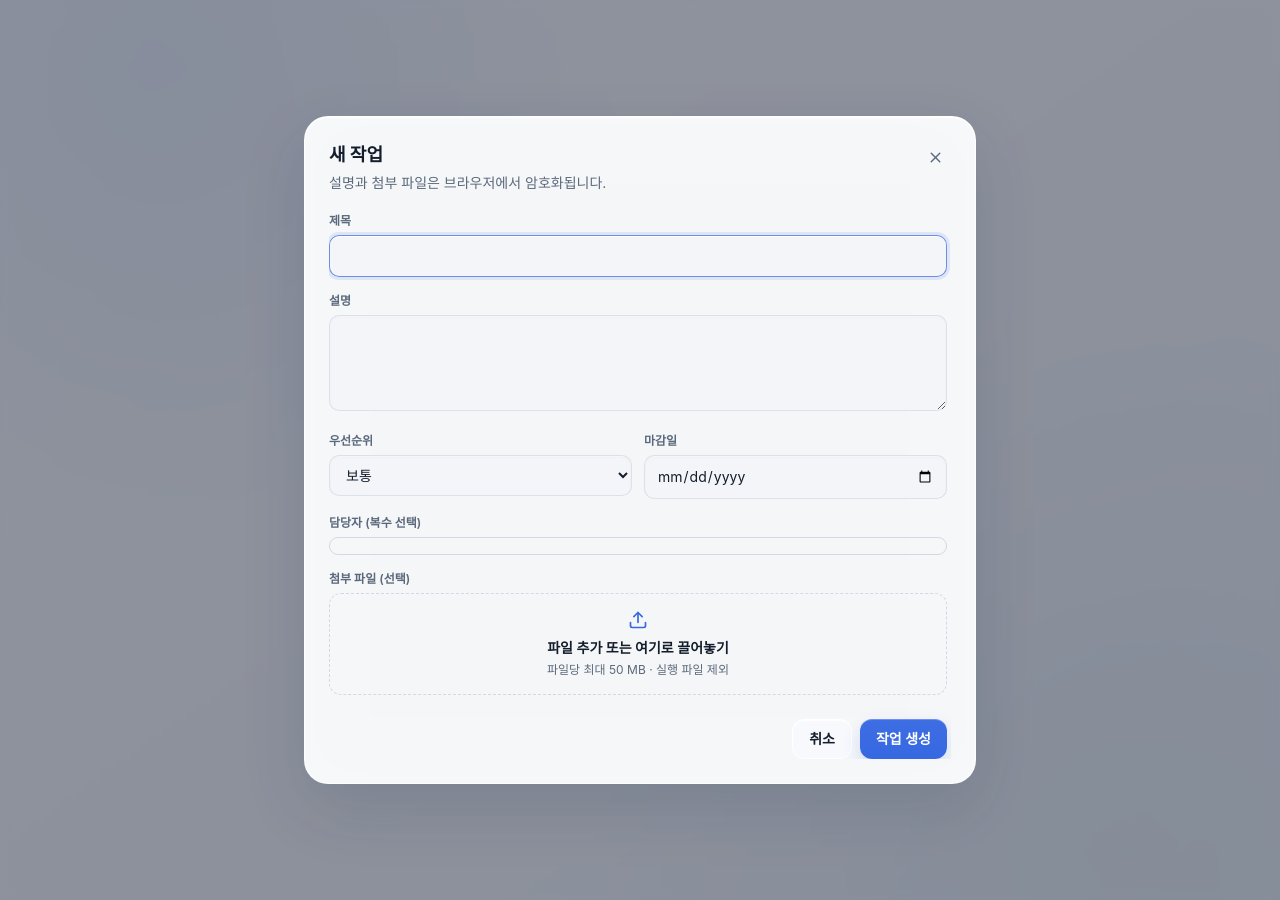
Test: board task creation UX › closes, resets, updates, and shows a success Toast only after creation succeeds
Type "테스트 작업" into the field labelled "제목".
click(638, 256); type("테스트 작업")  # box top-left (329, 235), bottom-right (947, 277)
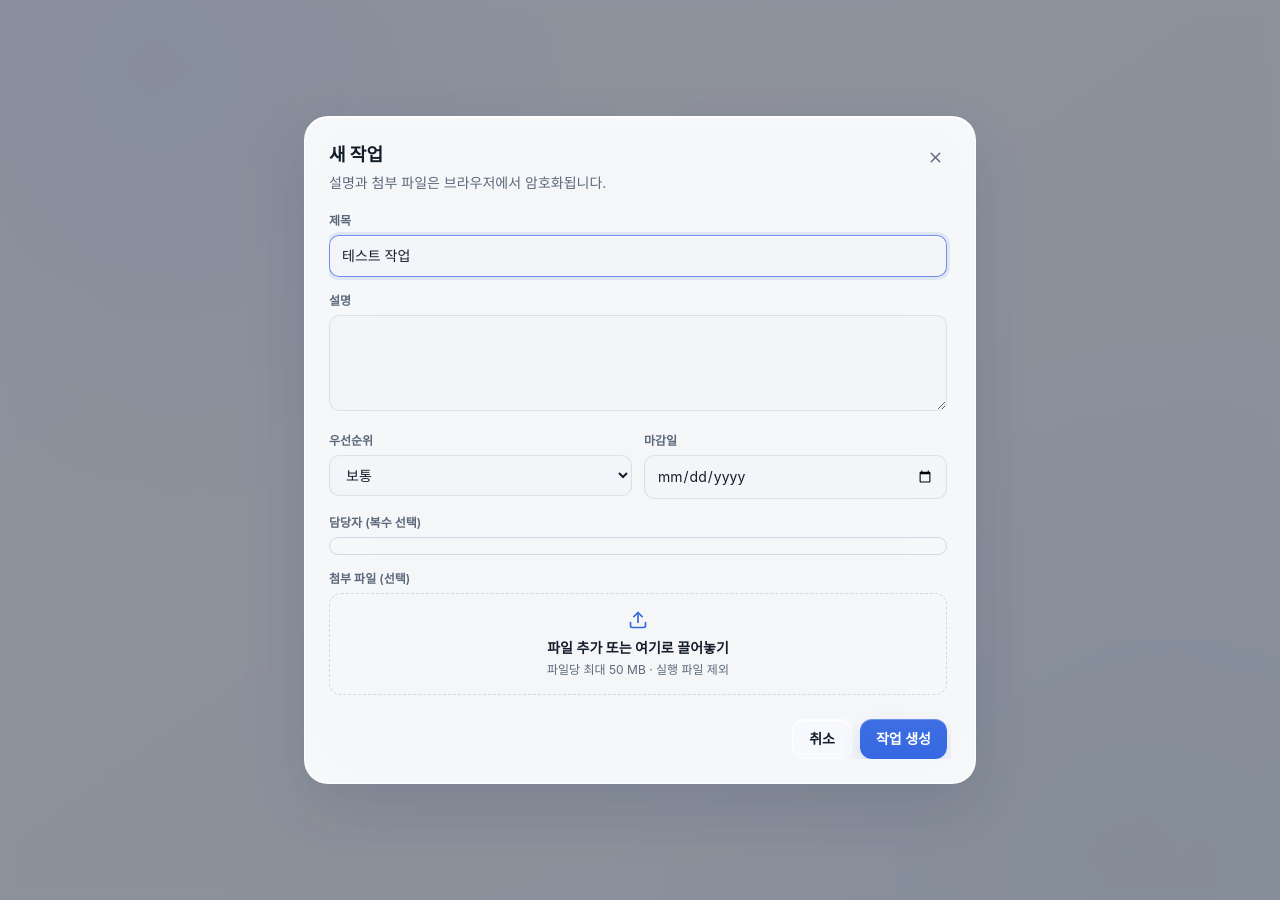
Click the button "작업 생성".
click(903, 739)  # box top-left (860, 719), bottom-right (947, 759)
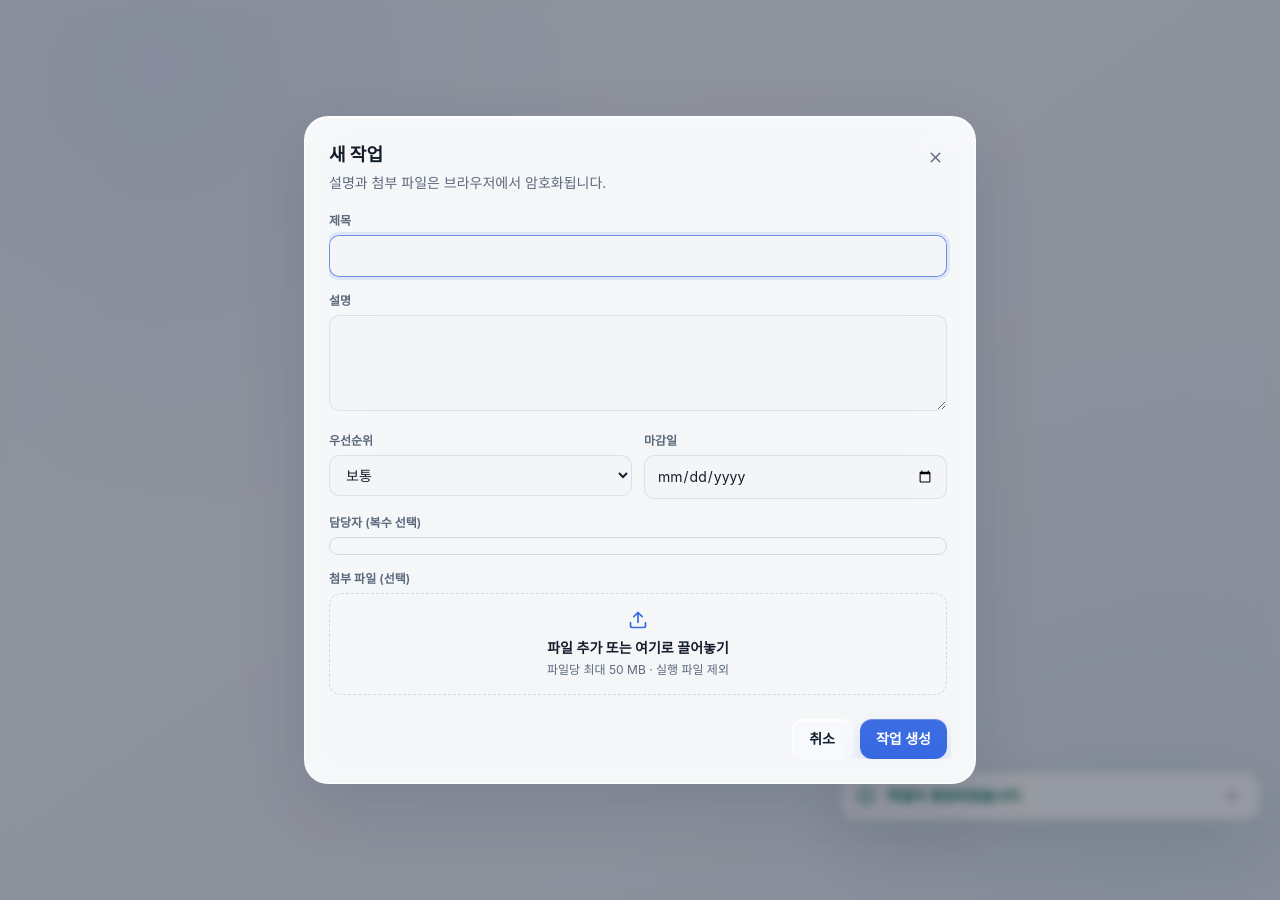
Check: the field labelled "제목" is empty, box top-left (329, 235), bottom-right (947, 277)
Check: the text "작업이 생성되었습니다." is shown, box top-left (887, 787), bottom-right (1024, 804)
